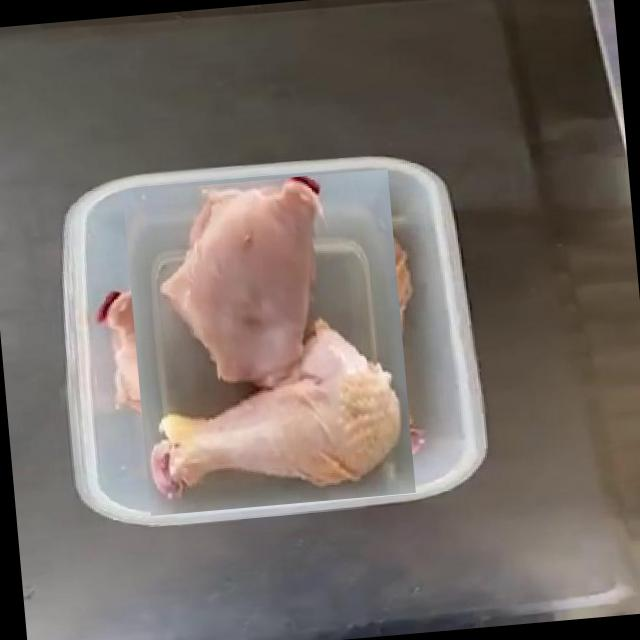chicken: (108, 181, 429, 502)
